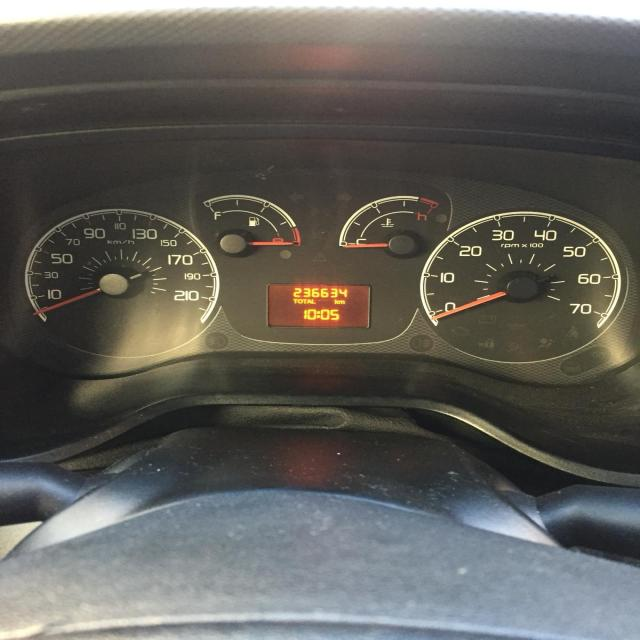odometer: (266, 283, 371, 329)
